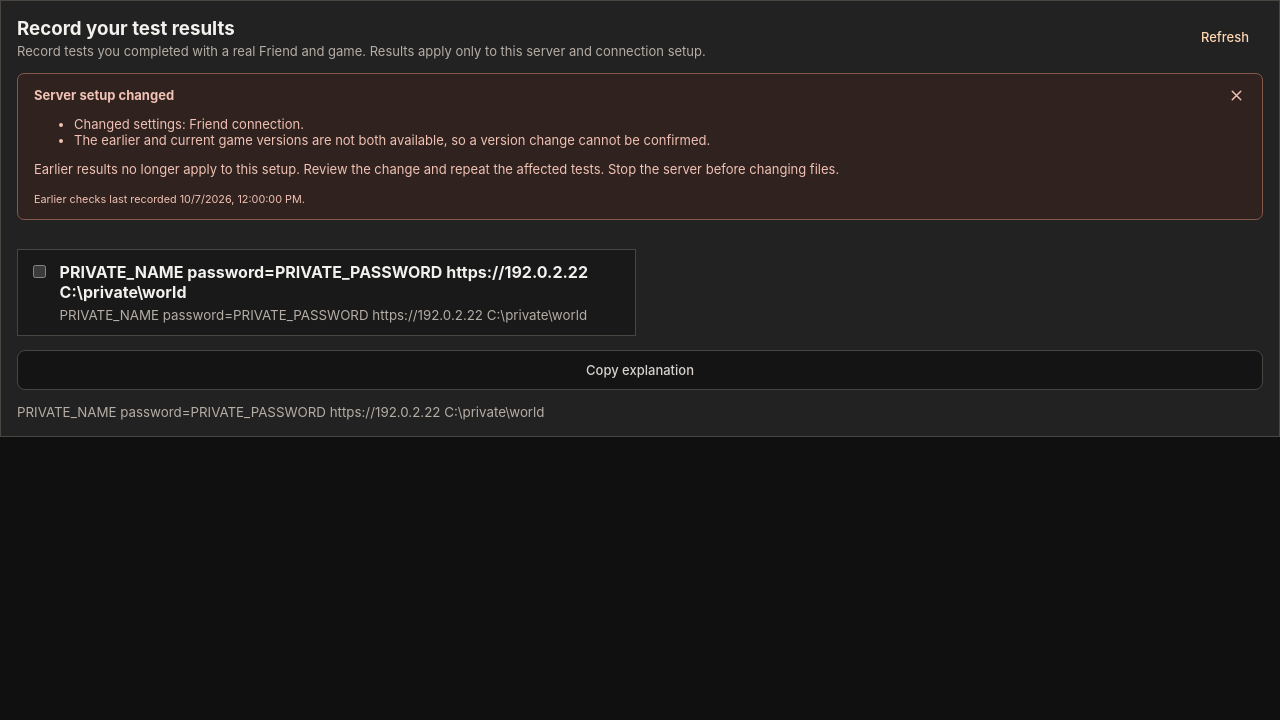
Test: AcceptanceRecorder stale evidence › copies only fixed facts and excludes labels, names, IDs, fingerprints, endpoint/path strings and secret versions
Click the button "Copy explanation" at (640,370), box [17,350,1263,390]
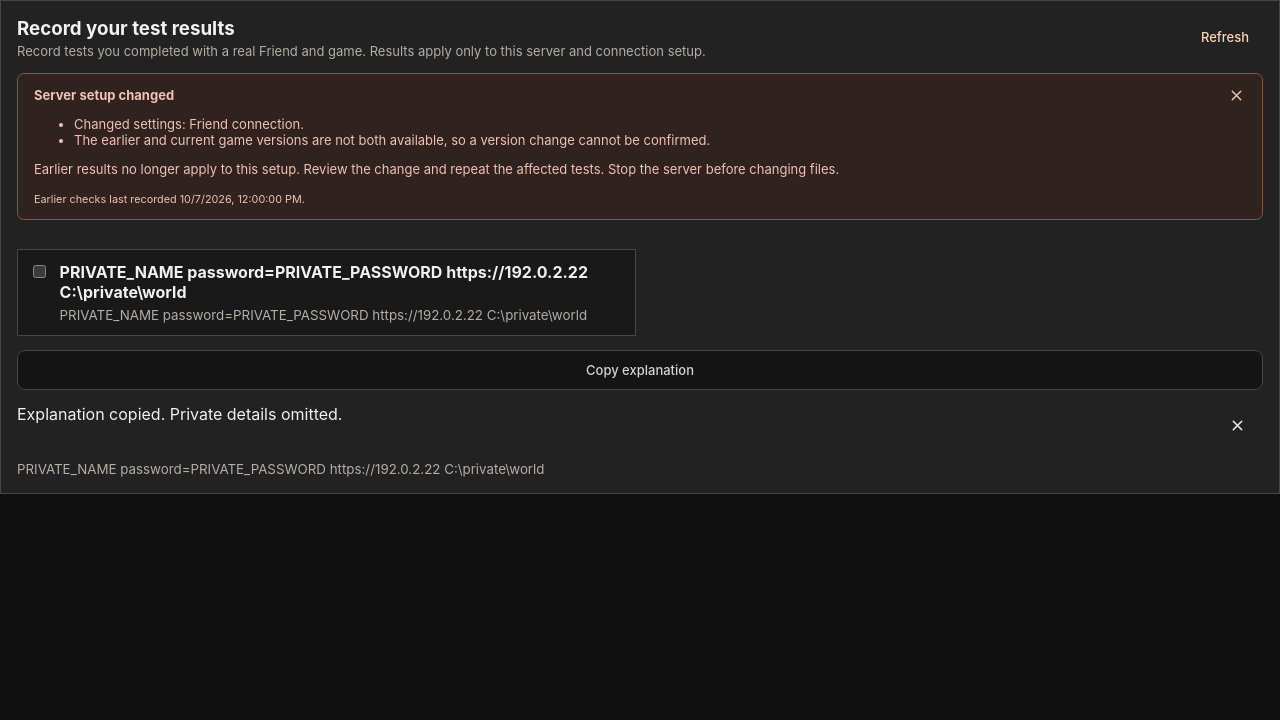
Expected: the text "Explanation copied. Private details omitted." is shown, [17,404,1263,448]
Click the 2nd button named "Dismiss notification" at (1237,426), box [1215,404,1259,448]
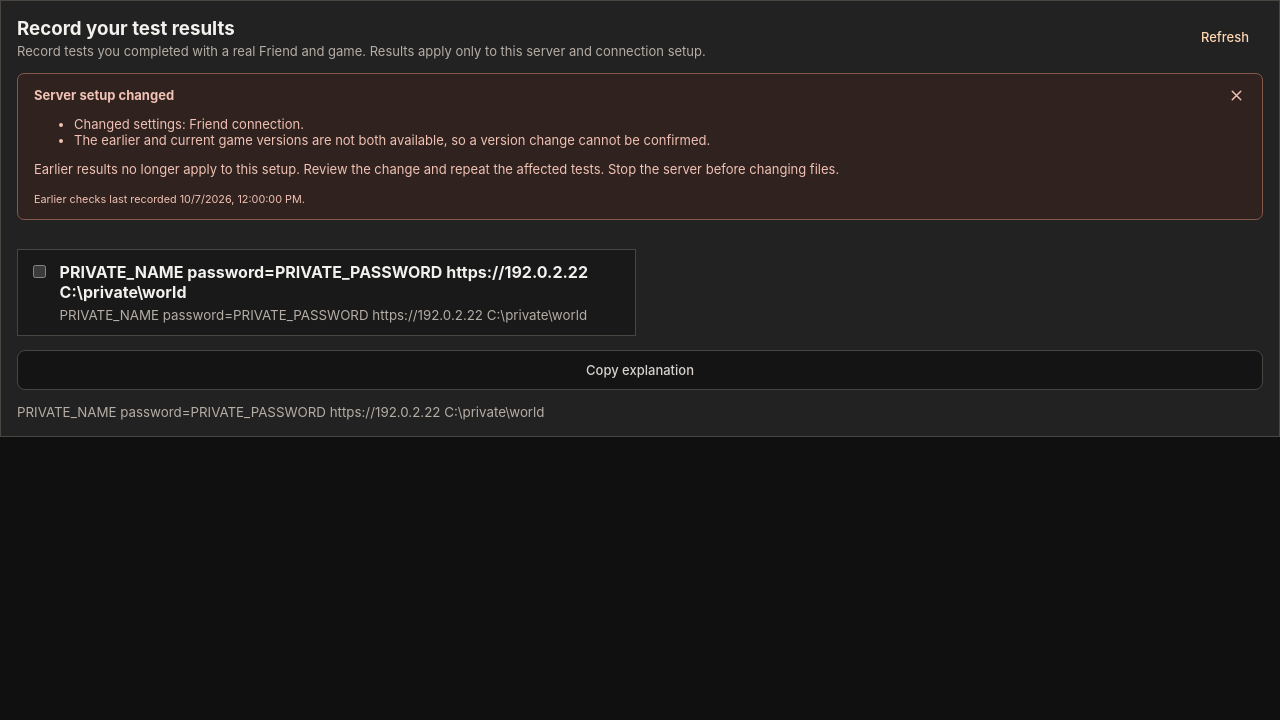
Expected: the text "Explanation copied. Private details omitted." is gone
Click the button "Copy explanation" at (640,370), box [17,350,1263,390]
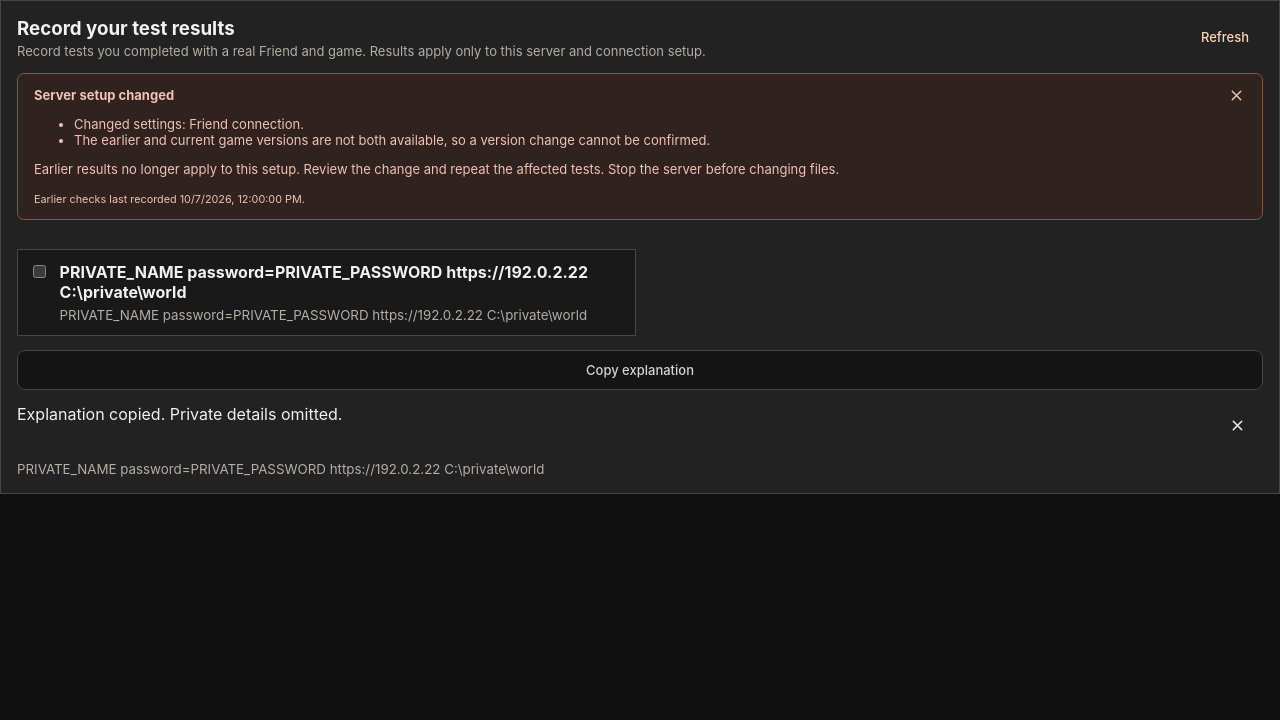
Expected: the text "Explanation copied. Private details omitted." is shown, [17,404,1263,448]
